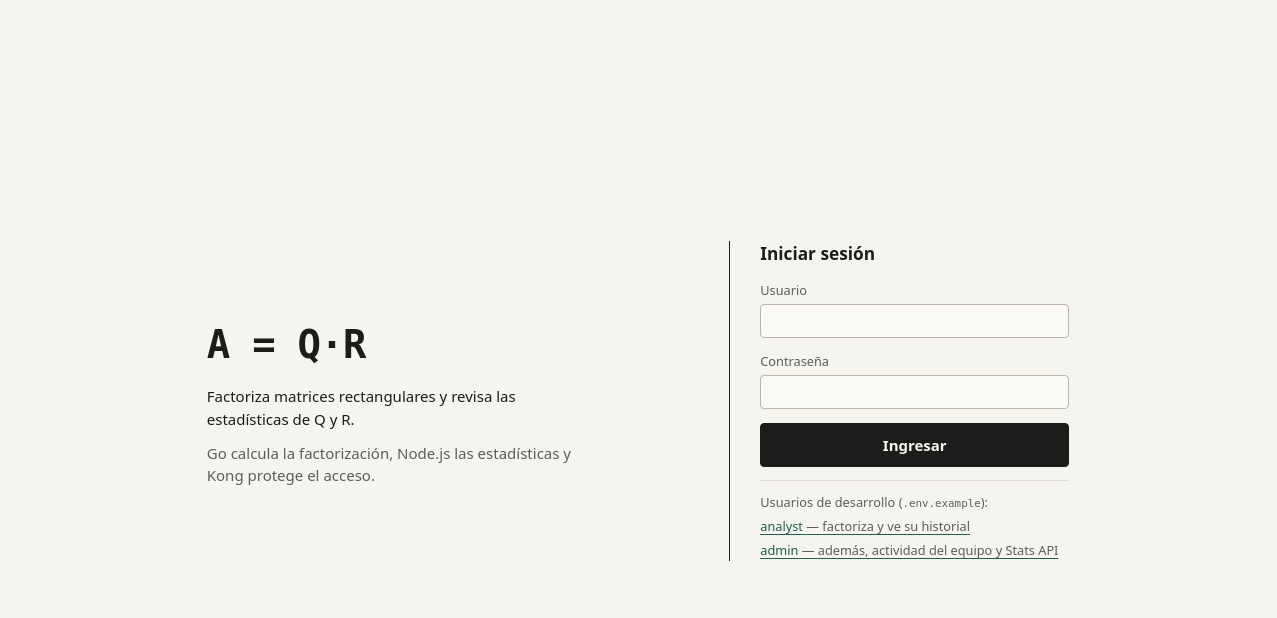
Test case: App › analyst no ve las secciones de administrador
Type "analyst" into the field labelled "Usuario".
click(915, 321); type("analyst")  # box [760, 304, 1069, 338]
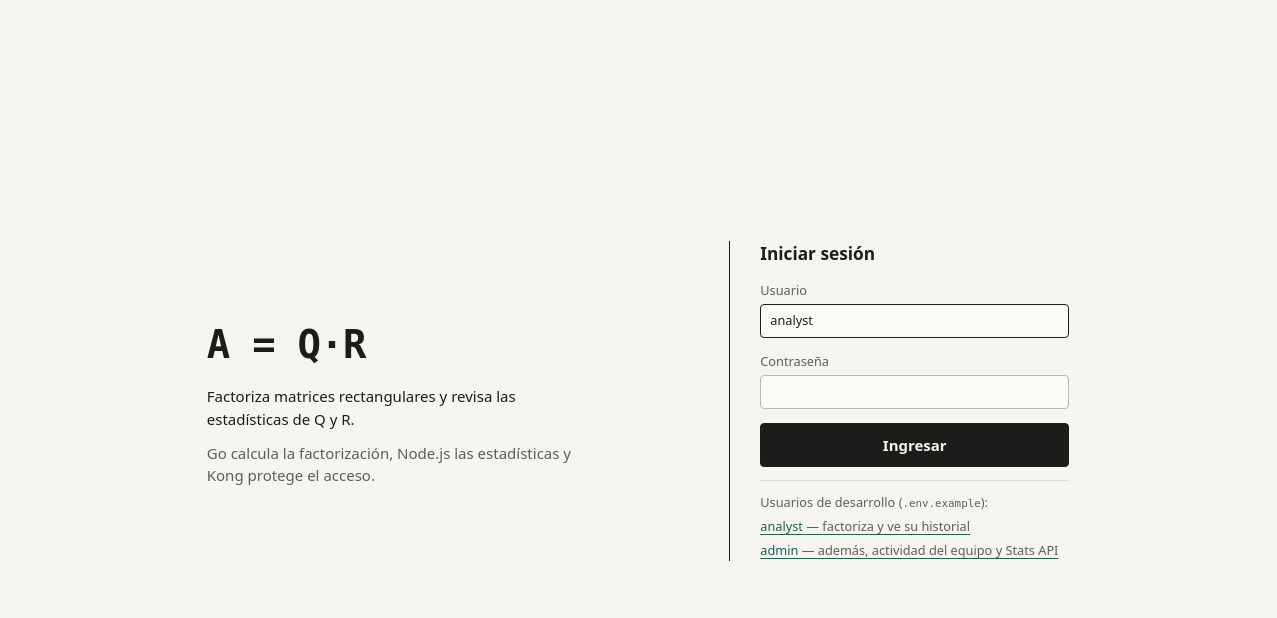
Type "Analyst123!" into the password field labelled "Contraseña".
click(915, 392); type("Analyst123!")  # box [760, 375, 1069, 409]
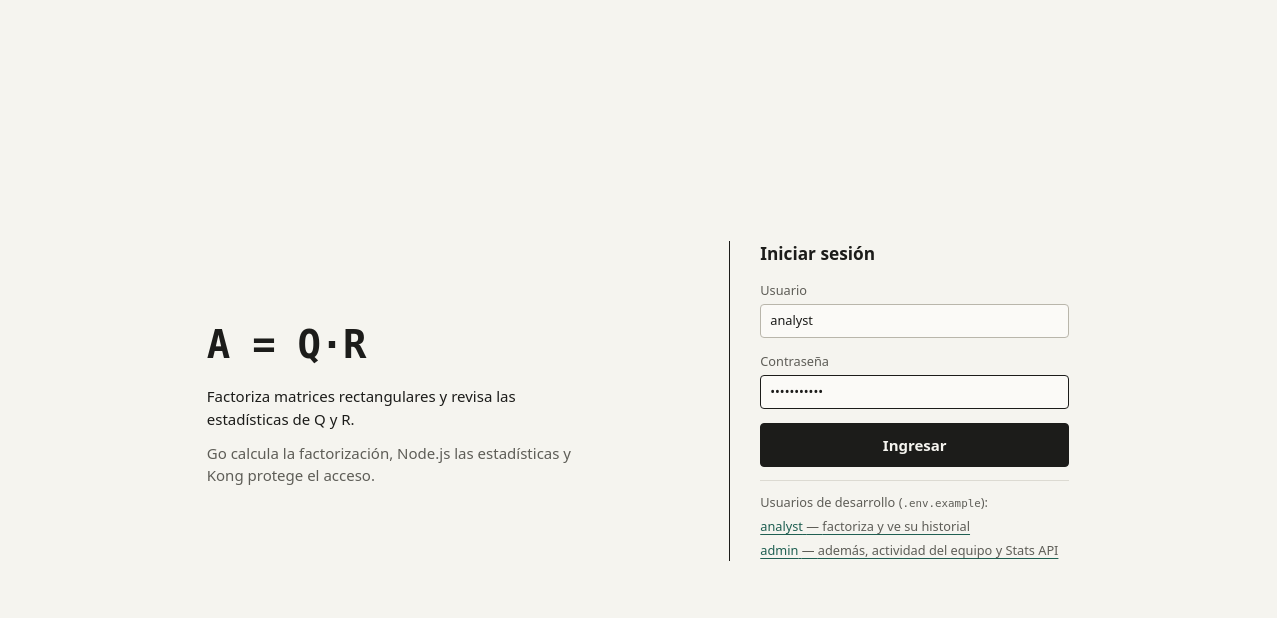
Click the button "Ingresar".
click(915, 445)  # box [760, 423, 1069, 467]
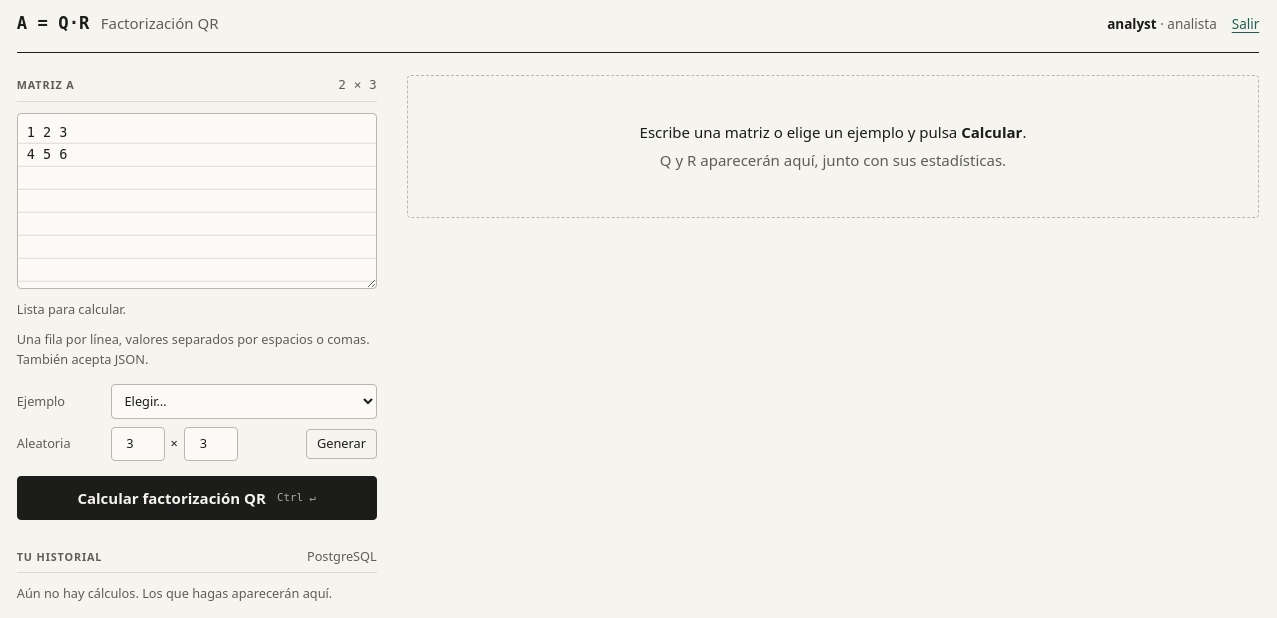
Result: the text box labelled "Matriz A" is shown at [17, 113, 377, 289]
